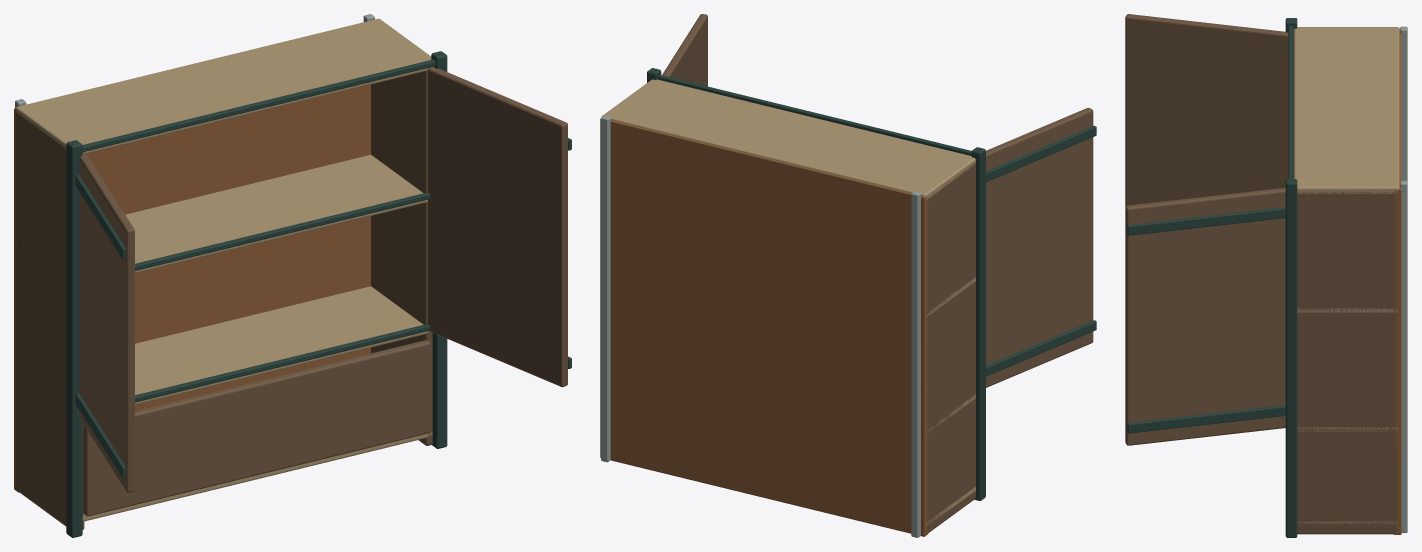
Rendered from cabinet.glb.
3 renders of one model, left to right at view 1: azimuth 30°, elevation 25°; view 2: azimuth 150°, elevation 25°; view 3: azimuth 270°, elevation 25°, orthographic. The views are drawn at different scales.
Parts seen in each view (by area): view 1: Rear, Door.001, Lower_front, Shelf.003, Side, Shelf.002, Shelf.001, Door, Side.001, Iron_frame, Shelf_edge.002, Shelf_edge.001 (+5 smaller); view 2: Rear, Door, Shelf.003, Side, Iron_frame, Steel_corner, Steel_corner.001, Door.001, Shelf_edge.002, Door_strap.001, Door_strap; view 3: Door.001, Side.001, Door, Shelf.003, Iron_frame.001, Rear, Steel_corner.001, Door_strap.002, Door_strap.003, Steel_corner, Shelf_edge.002, Shelf.002 (+1 smaller).
Boxes of the visible parts, x1,y1,x2,y2 form: Rear: (14,84,370,492); Door.001: (428,66,567,387); Lower_front: (83,340,430,516); Shelf.003: (15,18,431,153); Side: (16,112,84,529); Shelf.002: (16,154,427,273); Shelf.001: (135,286,428,404); Door: (79,152,134,492); Side.001: (371,67,432,445); Iron_frame: (66,140,82,537); Shelf_edge.002: (82,59,435,151); Shelf_edge.001: (135,192,430,270); Rear: (600,118,928,536); Door: (986,107,1093,387); Shelf.003: (601,79,975,199); Side: (927,162,975,532); Iron_frame: (971,147,985,500); Steel_corner: (911,191,921,537); Steel_corner.001: (601,115,610,462); Door.001: (662,14,707,86); Shelf_edge.002: (658,75,971,155); Door_strap.001: (986,125,1096,182); Door_strap: (986,320,1096,376); Door.001: (1125,187,1285,445); Side.001: (1297,191,1396,534); Door: (1125,14,1288,206); Shelf.003: (1293,27,1399,193); Iron_frame.001: (1285,179,1297,537); Rear: (1393,29,1401,534); Steel_corner.001: (1400,180,1407,532); Door_strap.002: (1127,405,1285,433); Door_strap.003: (1127,207,1285,235); Steel_corner: (1400,26,1407,180); Shelf_edge.002: (1288,26,1293,178); Shelf.002: (1297,308,1397,312).
Size of the model in its own units: 2.22 by 1.85 by 1.33.
